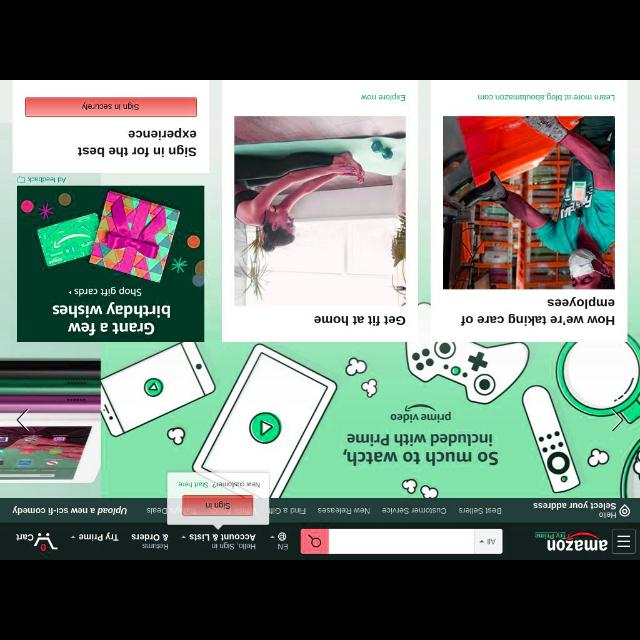backgroundimage: (0, 123, 638, 497)
button: (612, 528, 636, 554), (302, 530, 328, 552)
icon: (16, 406, 34, 432), (607, 408, 625, 432), (307, 532, 321, 548), (618, 534, 630, 548), (620, 504, 630, 516), (16, 175, 26, 182), (278, 532, 286, 540), (479, 539, 485, 543), (182, 535, 186, 539), (71, 536, 75, 540), (270, 536, 276, 538)
image: (232, 114, 408, 310), (440, 116, 616, 290), (17, 185, 204, 342), (546, 532, 610, 552), (34, 532, 58, 552)
input: (328, 529, 474, 555)
link: (535, 531, 567, 539)
multitab: (0, 496, 638, 522)
panel: (166, 471, 268, 523)
spinner: (474, 528, 502, 554)
text: (458, 294, 616, 326), (72, 127, 196, 159), (532, 501, 616, 519), (478, 91, 616, 101), (11, 505, 127, 515), (314, 315, 406, 327), (176, 480, 262, 488), (130, 533, 168, 551), (382, 507, 446, 515), (358, 92, 408, 102), (80, 102, 140, 110), (318, 506, 370, 514), (188, 534, 256, 540), (79, 532, 119, 542), (211, 542, 255, 550), (460, 506, 502, 514), (27, 176, 65, 184), (270, 506, 306, 514), (206, 501, 230, 509), (16, 532, 34, 542), (146, 507, 166, 515), (278, 542, 288, 550), (486, 538, 496, 544)
textbutton: (25, 96, 197, 116), (182, 494, 254, 516)
toolbar: (1, 523, 639, 559)
